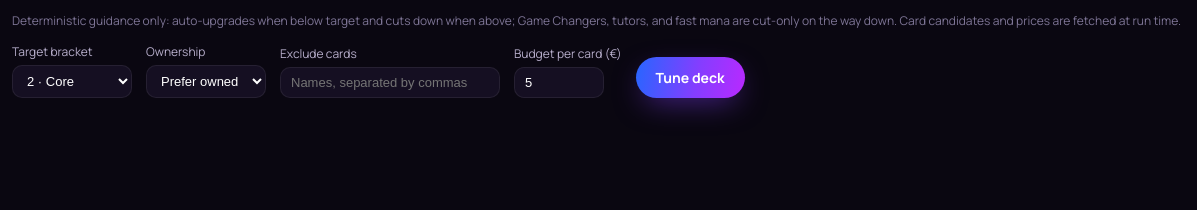
Test: BracketTuner Pro explanation affordance › does not render any AI control without the /api/me-derived capability
This screenshot has width=1197, height=210.
Click the button "Tune deck" at (690, 78), box [636,57,745,98]
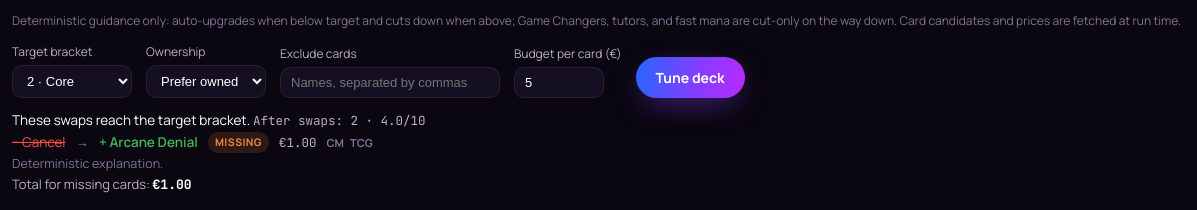
Result: the text "Deterministic explanation." is shown at [12,155,163,172]
